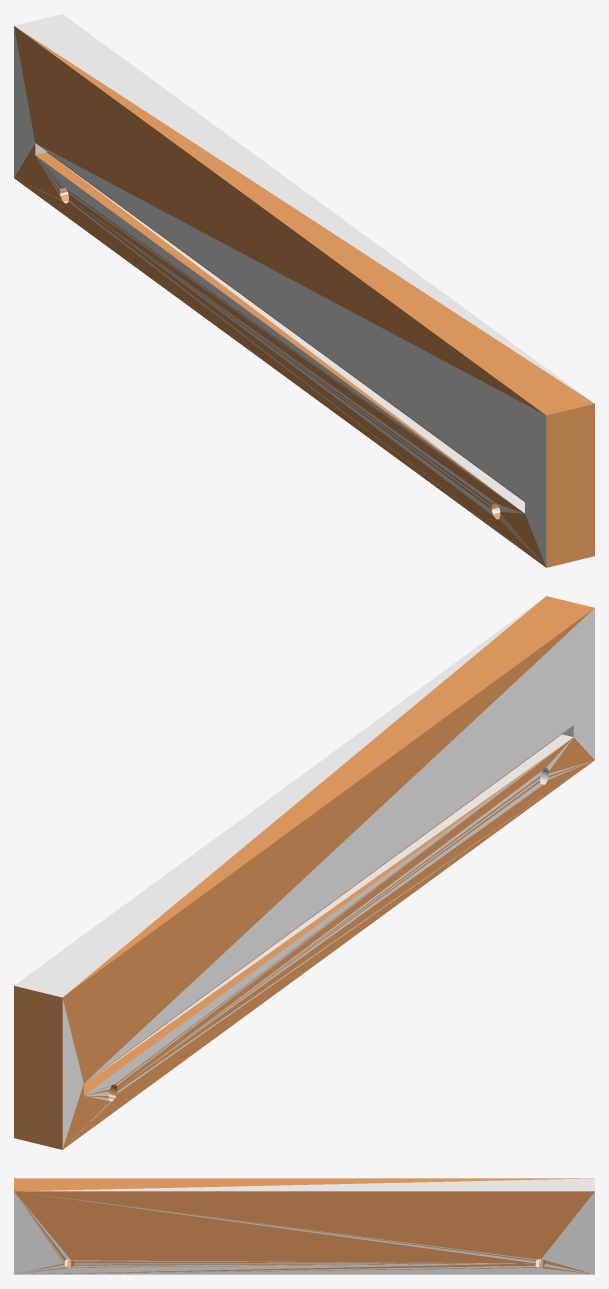
Rendered from original-38-collision.obj.
3 views of the same model, one above another, from view 1: azimuth 30°, elevation 25°; view 2: azimuth 150°, elevation 25°; view 3: azimuth 270°, elevation 25° (orthographic). The views are drawn at different scales.
Visible parts, largest first — view 1: A_-_Tray_Length_Left1/A_-_Tray_Length_Left/mesh10/mesh10-geomet; view 2: A_-_Tray_Length_Left1/A_-_Tray_Length_Left/mesh10/mesh10-geomet; view 3: A_-_Tray_Length_Left1/A_-_Tray_Length_Left/mesh10/mesh10-geomet.
Part boxes in pixels (box(x1,y1,x2,y2)): A_-_Tray_Length_Left1/A_-_Tray_Length_Left/mesh10/mesh10-geomet: box(14, 14, 594, 567); A_-_Tray_Length_Left1/A_-_Tray_Length_Left/mesh10/mesh10-geomet: box(14, 596, 594, 1149); A_-_Tray_Length_Left1/A_-_Tray_Length_Left/mesh10/mesh10-geomet: box(14, 1178, 594, 1274).
Size of the model in its own units: 0.0602 by 0.1806 by 1.14.
